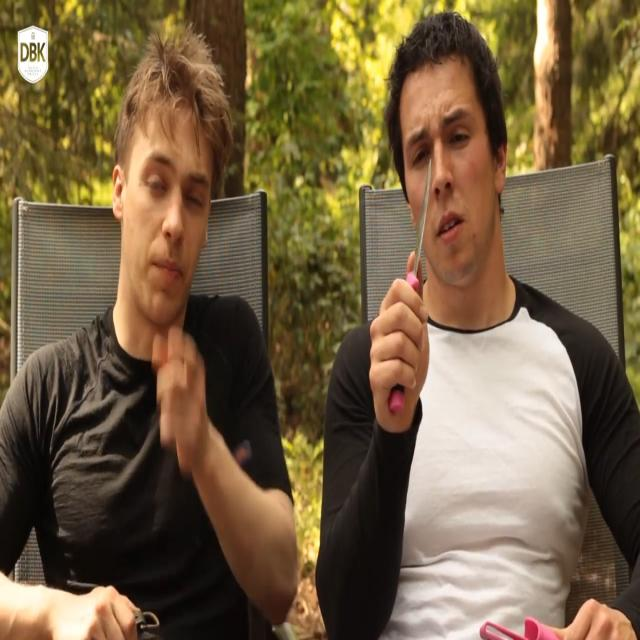knife: (411, 160, 438, 295)
